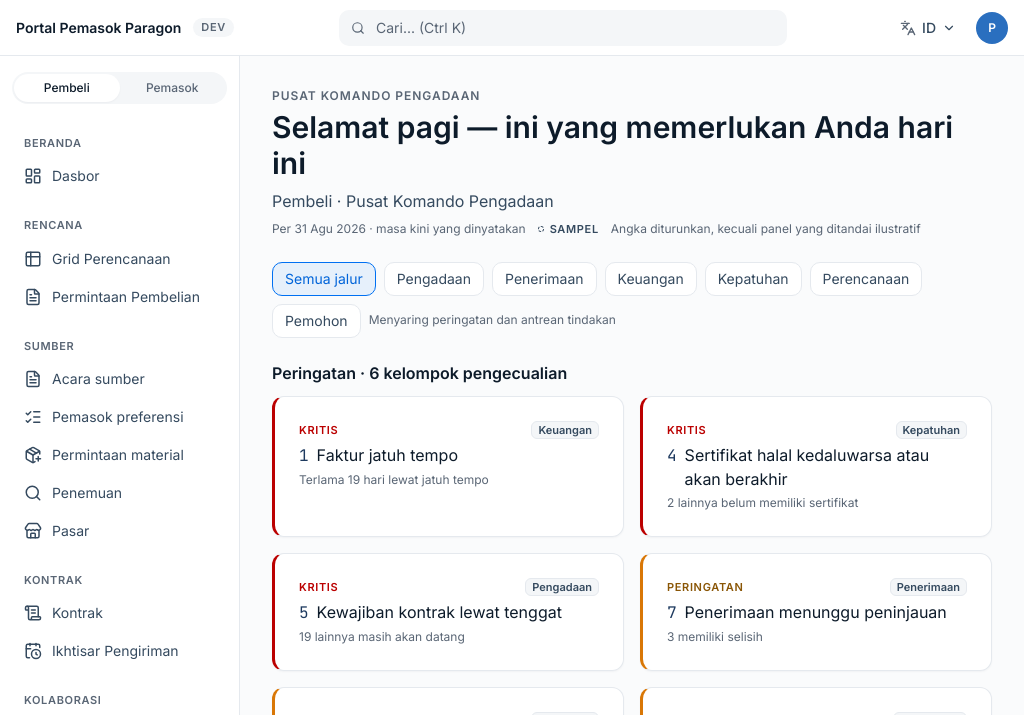
Scenario: ADM-1 · item 8 — the lane chips really filter › Indonesian: the label, the legend and the empty-lane sentence
Expected: the text "Menyaring peringatan dan antrean tindakan" is shown, top-left (369, 312), bottom-right (616, 329)
Click the button with test id "lane-chip-requisitioner". click: (316, 321)
box: top-left (272, 304), bottom-right (361, 338)
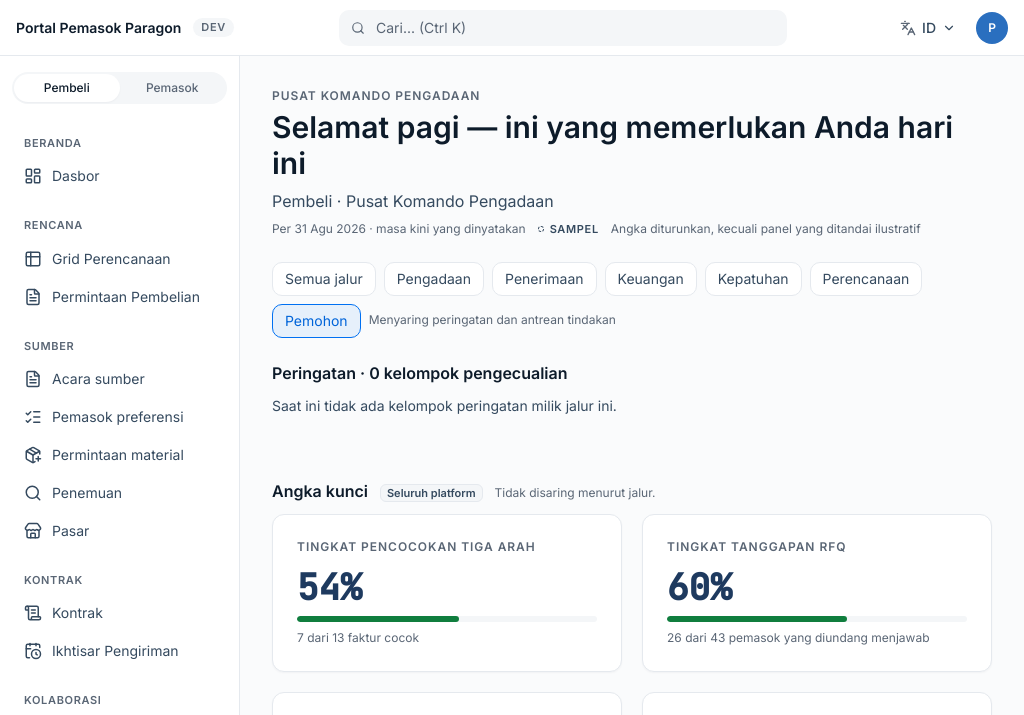
Now the text with test id "alerts-none-for-lane" reads "Saat ini tidak ada kelompok peringatan milik jalur ini.", box top-left (272, 397), bottom-right (617, 414)
